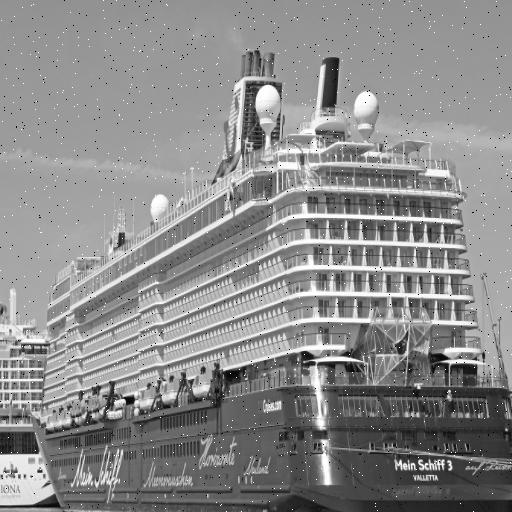cruises: (30, 47, 512, 512)
